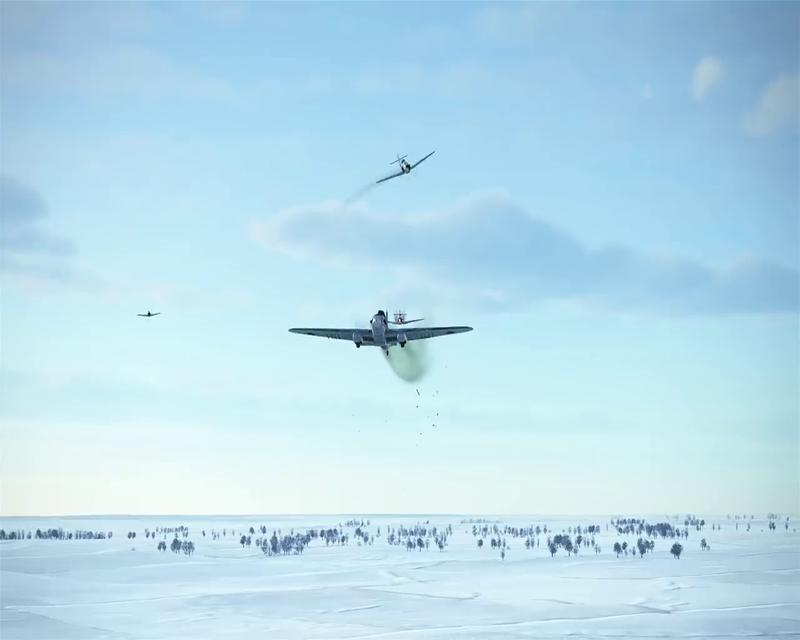UAV: (286, 308, 474, 358), (374, 149, 435, 184)
